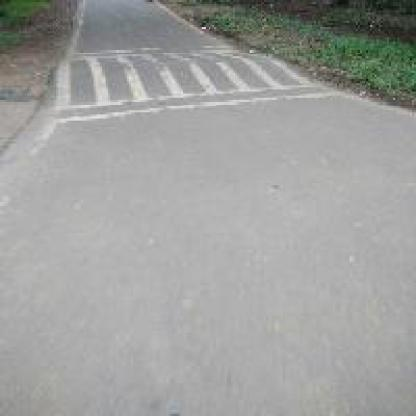Speed Bump: (56, 41, 345, 127)
